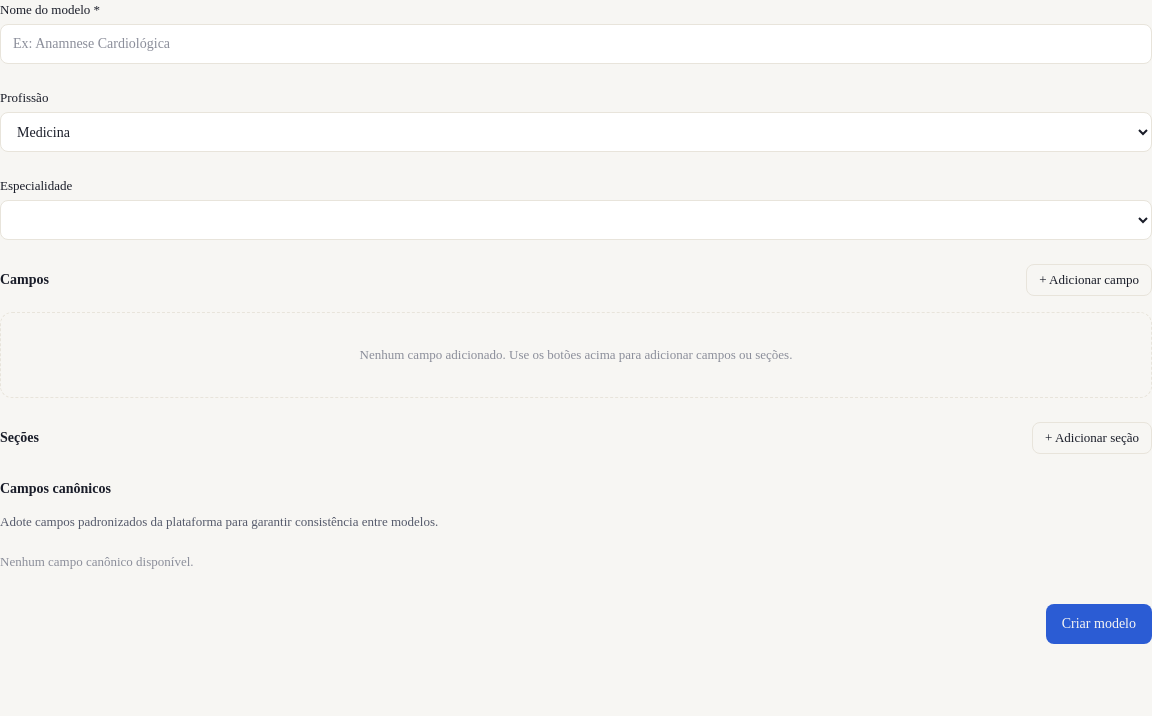
Scenario: TemplateForm (integration) › sections › adds field inside section
The image size is (1152, 716).
Click the button with test id "template-form-add-section" at (1092, 438), box [1032,422,1151,454]
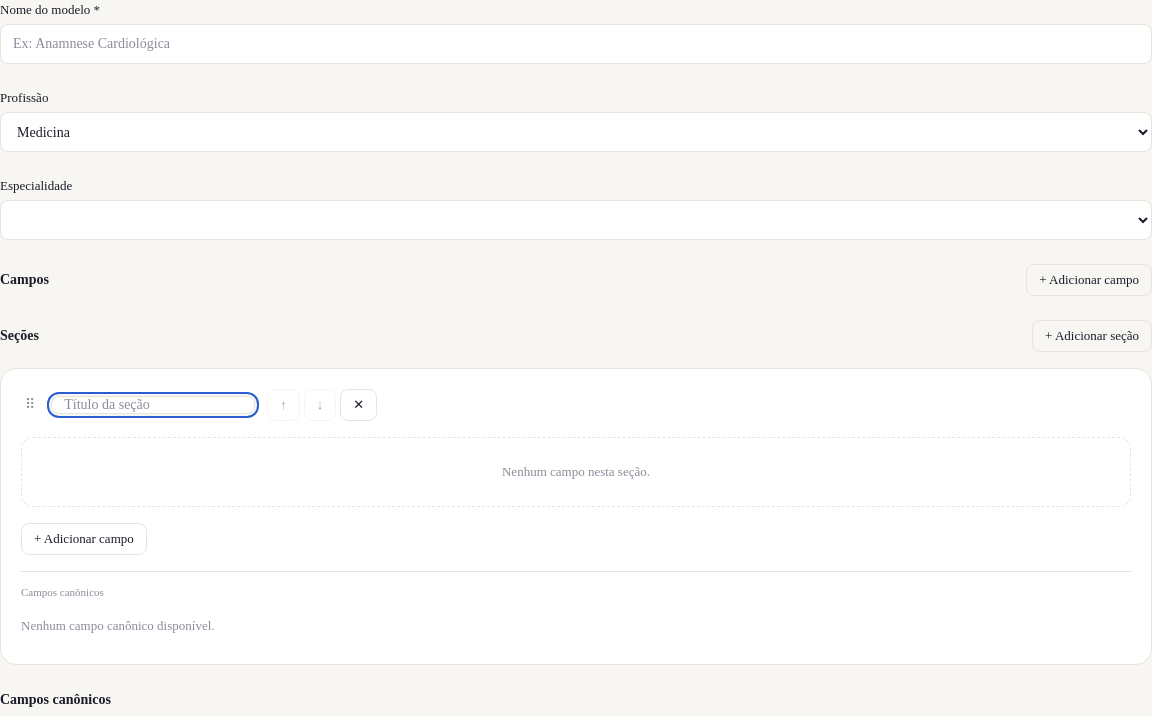
Click the button with test id "section-editor-add-field-0" at (84, 539), box [21,523,147,555]
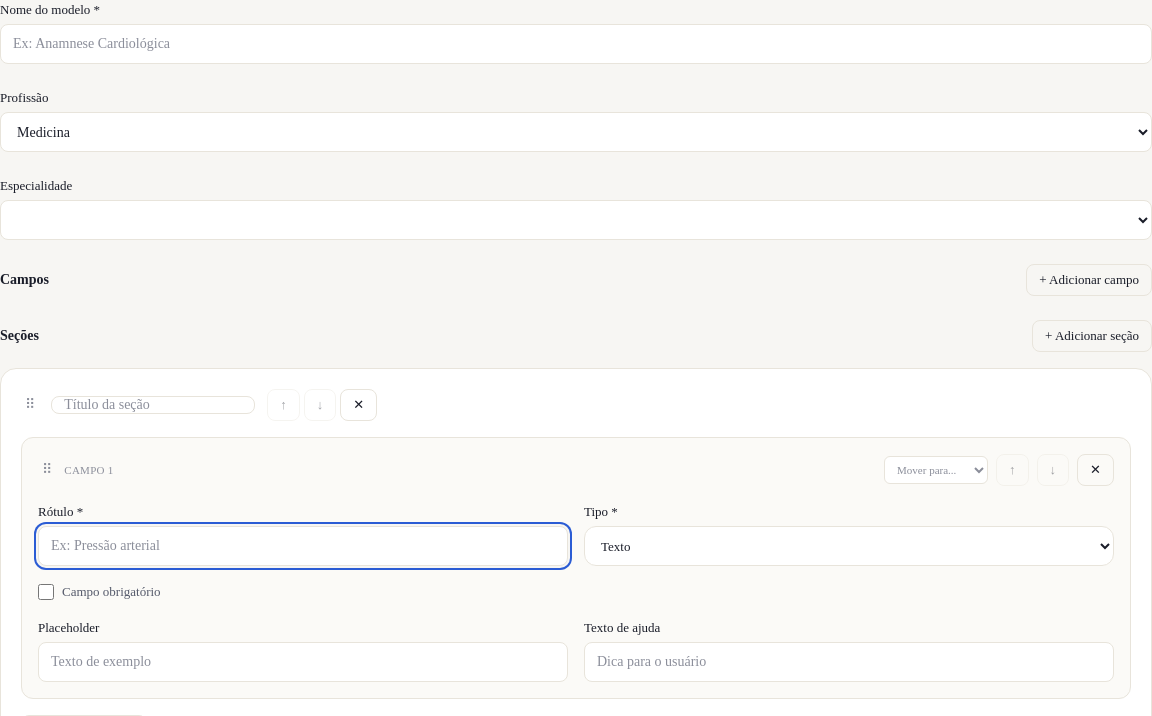
Check: the element with test id "field-editor-0" is shown, box [21,437,1131,699]
